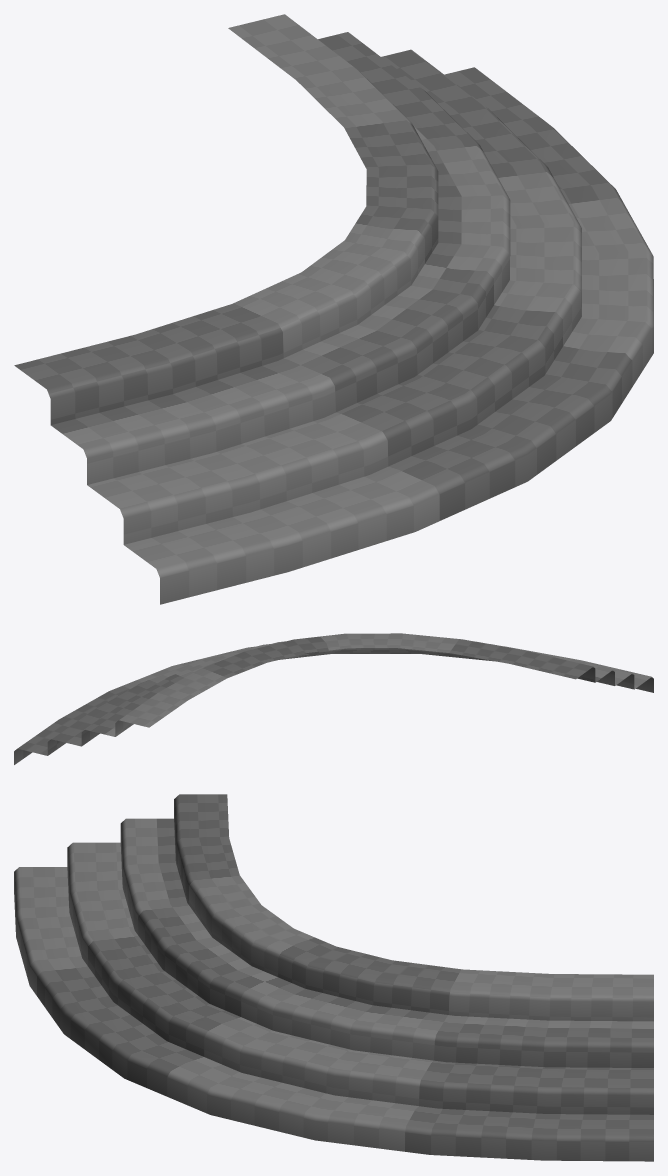
The model's file is StairsCorner_X6_Y1_Z6.fbx.
3 renders of one model, top to bottom at view 1: azimuth 30°, elevation 25°; view 2: azimuth 150°, elevation 25°; view 3: azimuth 270°, elevation 25°, orthographic. The views are drawn at different scales.
Parts seen in each view (by area): view 1: StairsCorner_X6_Y1_Z6; view 2: StairsCorner_X6_Y1_Z6; view 3: StairsCorner_X6_Y1_Z6.
Boxes of the visible parts, x1,y1,x2,y2 form: StairsCorner_X6_Y1_Z6: (14,14,653,604); StairsCorner_X6_Y1_Z6: (14,633,653,764); StairsCorner_X6_Y1_Z6: (14,794,653,1161).
Size of the model in its own units: 6 by 1 by 6.
